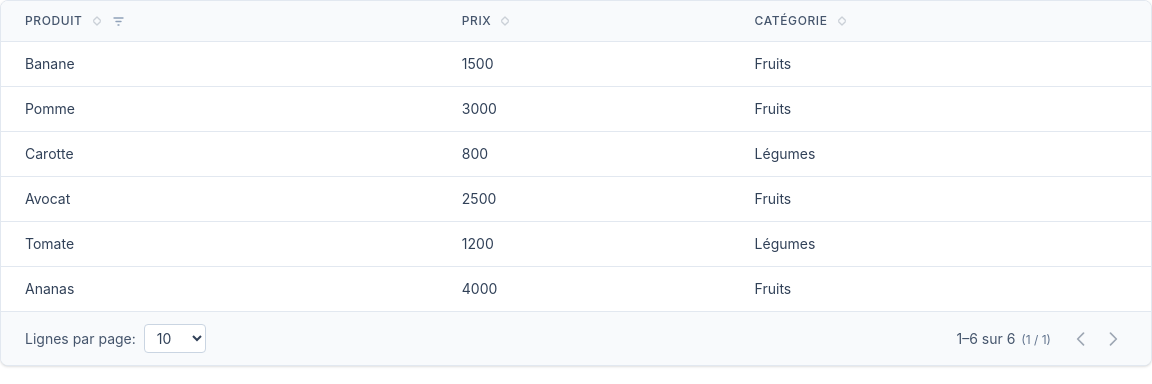
Scenario: ResponsiveDataTable — Upgrade & Robustesse › Tri 3 états (asc ➔ desc ➔ neutre) › trie correctement les nombres numériquement (pas alphabétiquement)
// Clic 1 : ascendant (800, 1200, 1500, 2500, 3000, 4000)
What coordinates should you click on to do the following:
click the text "Prix"
I would click on:
 (477, 21)
Its box is left=462, top=13, right=491, bottom=29.
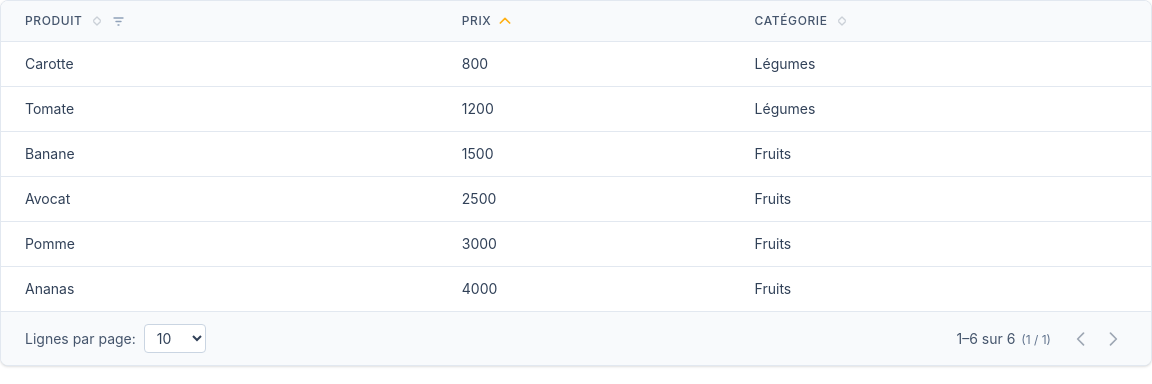
Check: the text "Carotte" is shown, box left=1, top=42, right=438, bottom=86
// Clic 2 : descendant (4000, 3000, 2500, 1500, 1200, 800)
What coordinates should you click on to do the following:
click the text "Prix"
I would click on:
 (477, 21)
Its box is left=462, top=13, right=491, bottom=29.
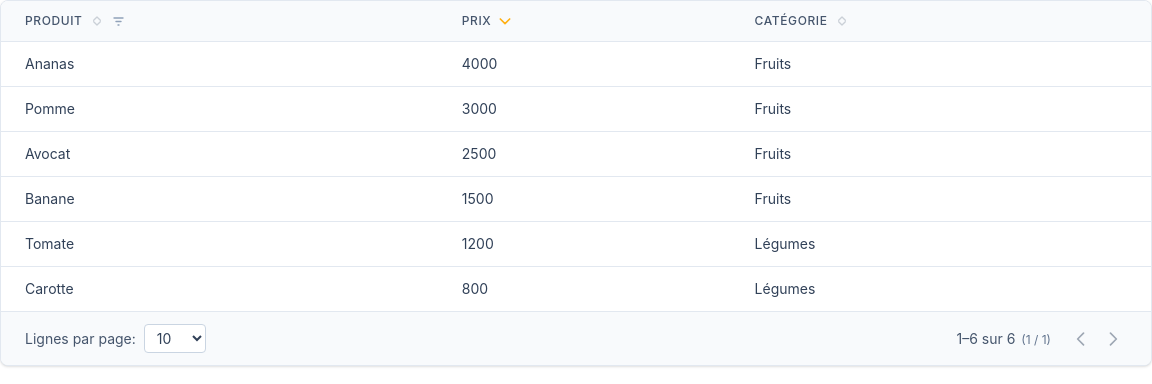
Check: the text "Ananas" is shown, box left=1, top=42, right=438, bottom=86
